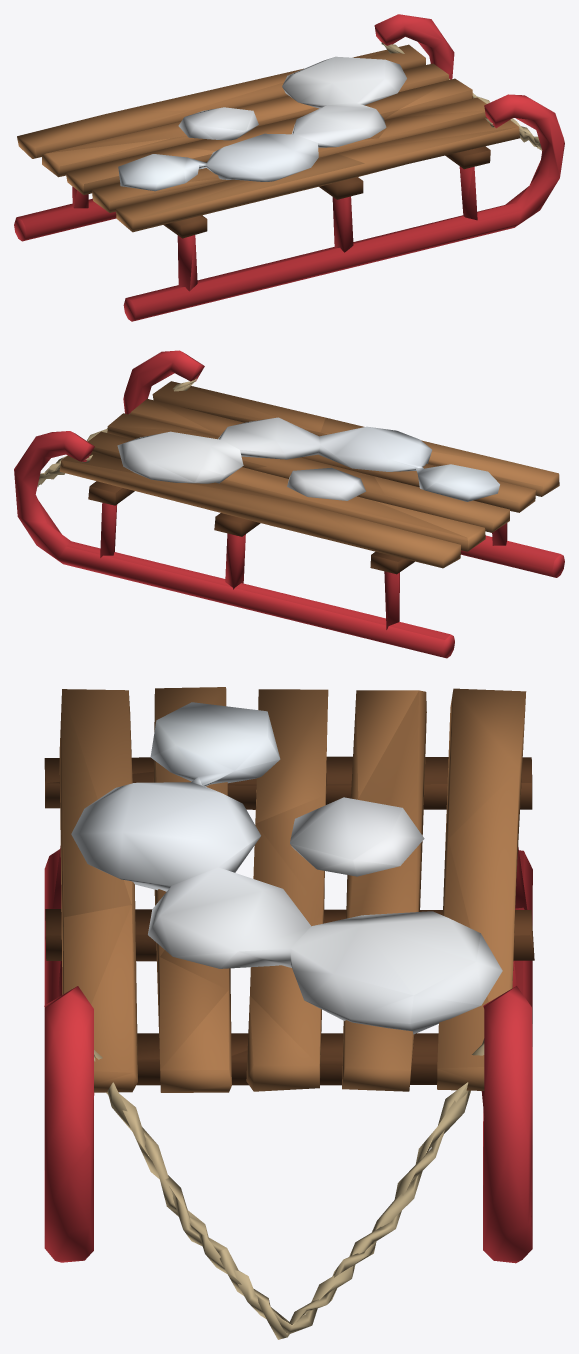
Rendered from frost_toy_sled_lod2.glb.
3 views of the same model, one above another, from view 1: azimuth 30°, elevation 25°; view 2: azimuth 150°, elevation 25°; view 3: azimuth 270°, elevation 25° (orthographic). The views are drawn at different scales.
Parts seen in each view (by area): view 1: frost_toy_sled.001; view 2: frost_toy_sled.001; view 3: frost_toy_sled.001.
Boxes of the visible parts, x1,y1,x2,y2 form: frost_toy_sled.001: [14, 14, 564, 321]; frost_toy_sled.001: [14, 350, 564, 658]; frost_toy_sled.001: [44, 687, 534, 1339].
Size of the model in its own units: 9.84 by 2.62 by 4.36.
